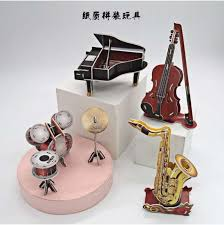Piano: (51, 23, 166, 105)
Saxophone: (123, 110, 219, 220)
Violin: (130, 17, 224, 143)
